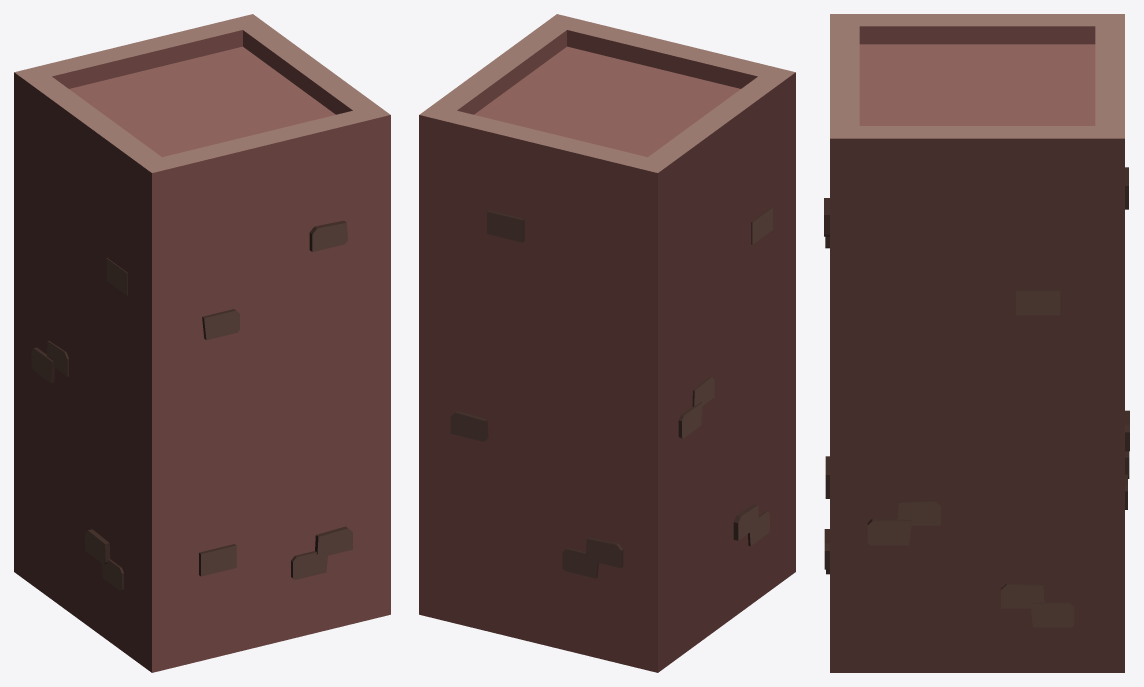
File: TB_D_Bd_Body_Tall_Red.FBX
3 renders of one model, left to right at view 1: azimuth 30°, elevation 25°; view 2: azimuth 150°, elevation 25°; view 3: azimuth 270°, elevation 25°, orthographic. The views are drawn at different scales.
Visible parts, largest first — view 1: TB_D_Bd_Body_Tall_Red; view 2: TB_D_Bd_Body_Tall_Red; view 3: TB_D_Bd_Body_Tall_Red.
Boxes of the visible parts, x1=… form: TB_D_Bd_Body_Tall_Red: x1=14, y1=14, x2=390, y2=672; TB_D_Bd_Body_Tall_Red: x1=419, y1=14, x2=795, y2=672; TB_D_Bd_Body_Tall_Red: x1=824, y1=14, x2=1129, y2=672.
Bounding box in the file's own units: 3.13 × 6 × 3.11.
